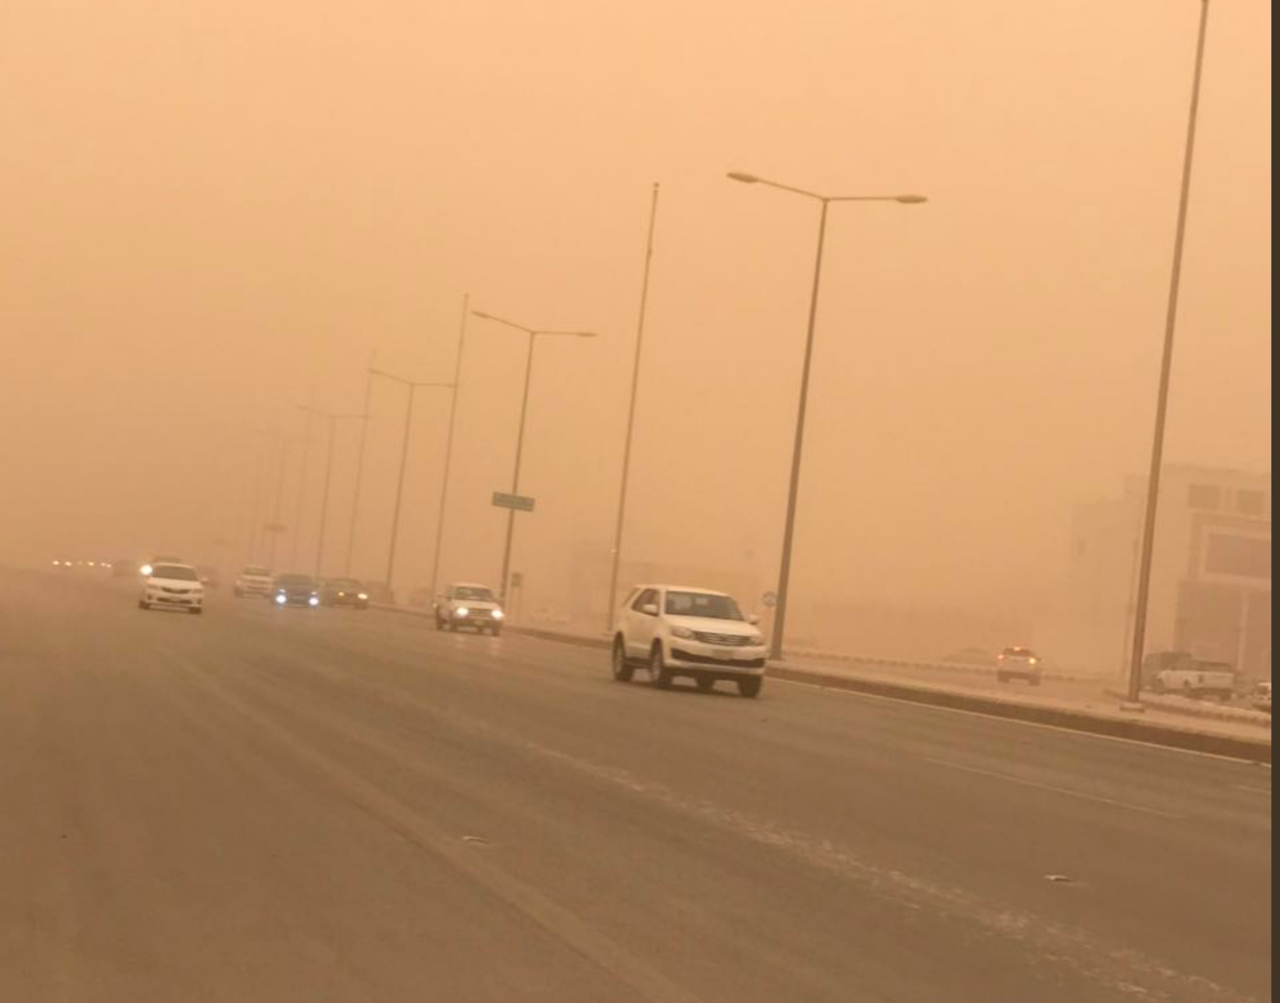car: (606, 581, 766, 695), (138, 560, 205, 613), (435, 583, 503, 635), (1155, 656, 1235, 696), (1139, 646, 1189, 688), (996, 643, 1043, 686), (320, 572, 366, 606), (271, 576, 319, 608), (231, 568, 272, 598), (943, 644, 991, 670)
